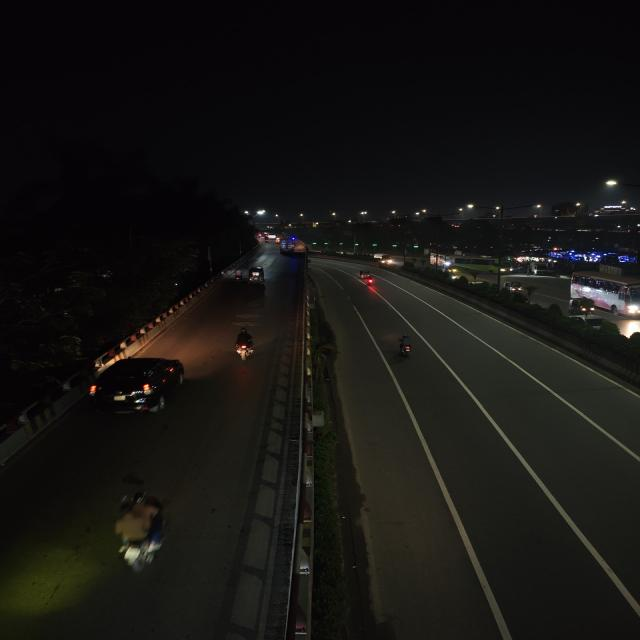bus: (570, 272, 640, 318), (454, 254, 517, 276)
car: (88, 354, 188, 420), (374, 254, 393, 264), (262, 234, 278, 242)
cng: (567, 296, 597, 316), (248, 265, 266, 283), (359, 269, 372, 279)
motorcycle: (102, 481, 177, 577), (229, 324, 260, 364), (392, 332, 420, 362), (233, 270, 245, 283), (366, 277, 376, 287)
truck: (276, 237, 299, 255), (529, 260, 550, 276)
